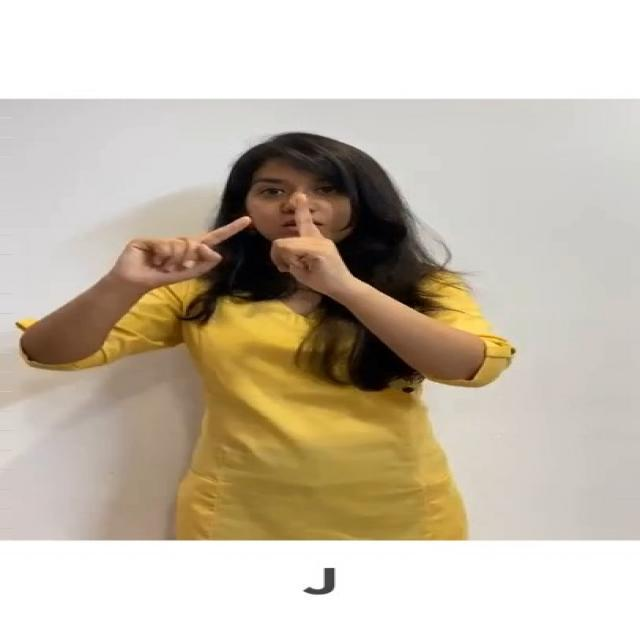J: (114, 187, 362, 302)
